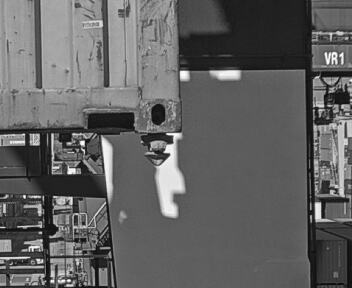twist_lock_2: (189, 156, 230, 194)
